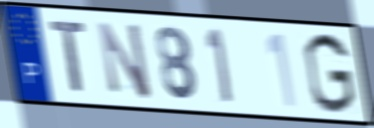1: (204, 27, 236, 107), (265, 32, 297, 109)
8: (154, 25, 197, 102)
G: (302, 30, 358, 116)
N: (95, 19, 154, 102)
T: (47, 19, 89, 95)
